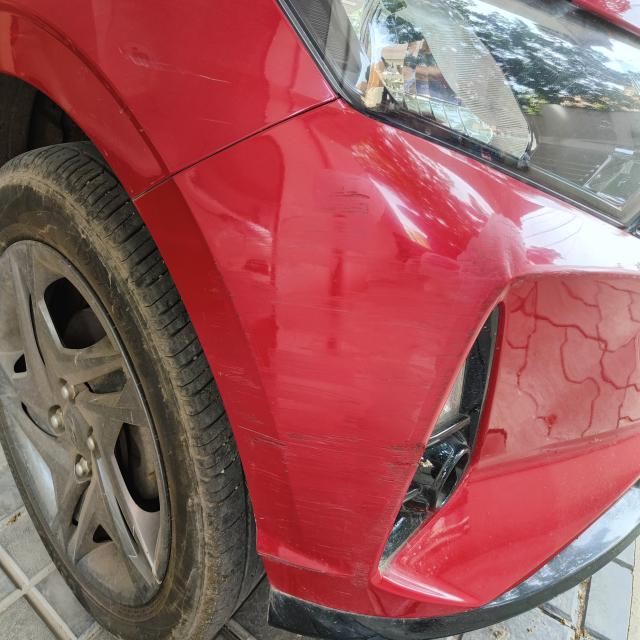scratch: (239, 393, 403, 578), (117, 36, 236, 102), (311, 169, 378, 234)
